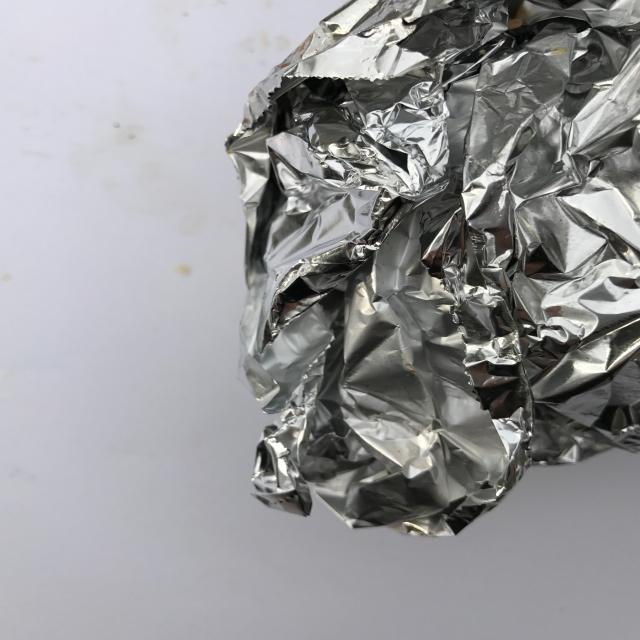metal: (225, 0, 640, 538)
